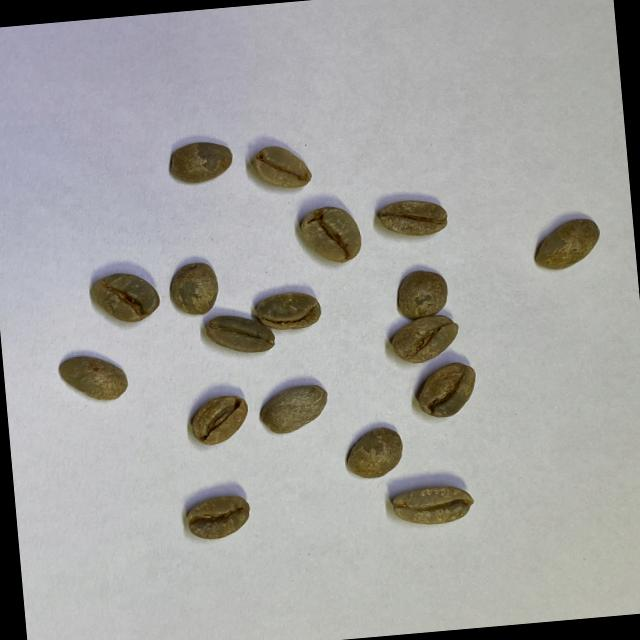bad: (386, 312, 462, 364)
good: (294, 202, 366, 266), (390, 480, 476, 530), (530, 216, 604, 274), (56, 350, 131, 406), (412, 360, 481, 420), (88, 270, 160, 326), (258, 383, 330, 436), (162, 138, 235, 188), (246, 288, 324, 334), (344, 425, 406, 482), (188, 392, 252, 447), (249, 142, 317, 192), (203, 311, 276, 357), (185, 492, 252, 542), (376, 194, 450, 238), (392, 267, 450, 323), (168, 261, 222, 318)
